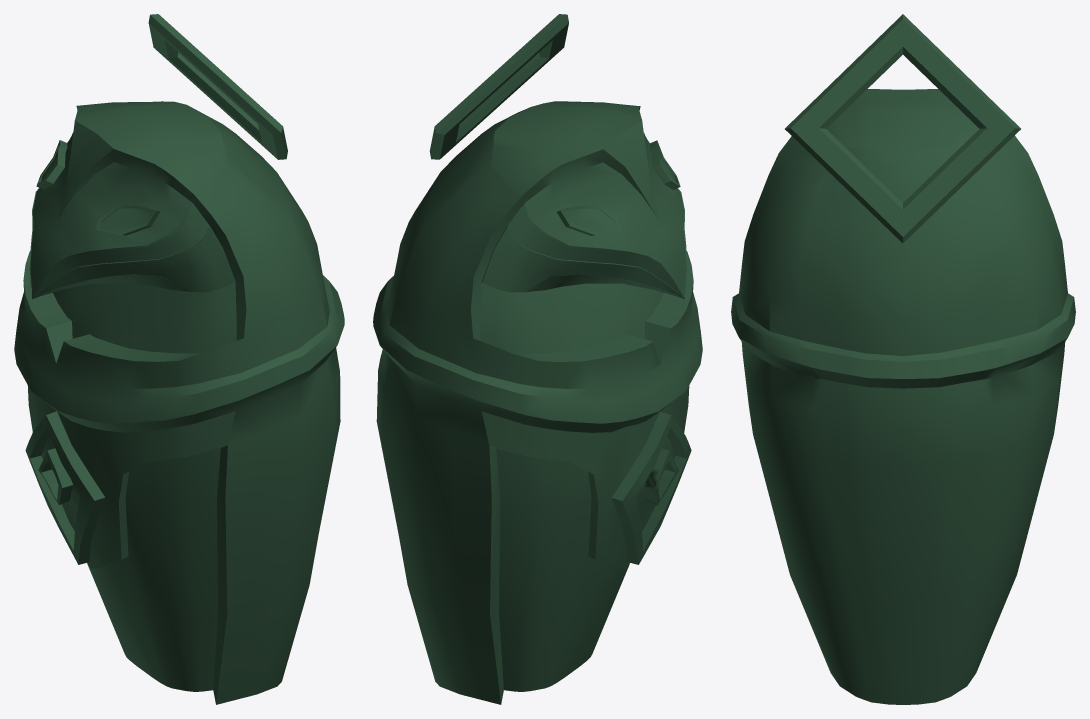
File: hibou.fbx
3 views of the same model, side by side, from view 1: azimuth 30°, elevation 25°; view 2: azimuth 150°, elevation 25°; view 3: azimuth 270°, elevation 25° (orthographic). The views are drawn at different scales.
Visible parts, largest first — view 1: Cube.001; view 2: Cube.001; view 3: Cube.001.
Part boxes in pixels (x1=…): Cube.001: x1=14, y1=14, x2=344, y2=704; Cube.001: x1=373, y1=14, x2=702, y2=704; Cube.001: x1=731, y1=14, x2=1075, y2=704.
Size of the model in its own units: 13797 by 31043 by 15176.
